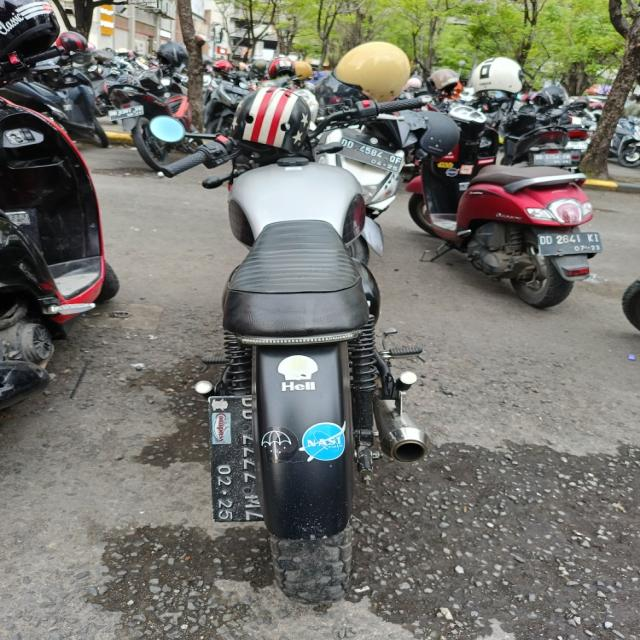plates: (211, 390, 271, 525), (533, 229, 610, 253)
